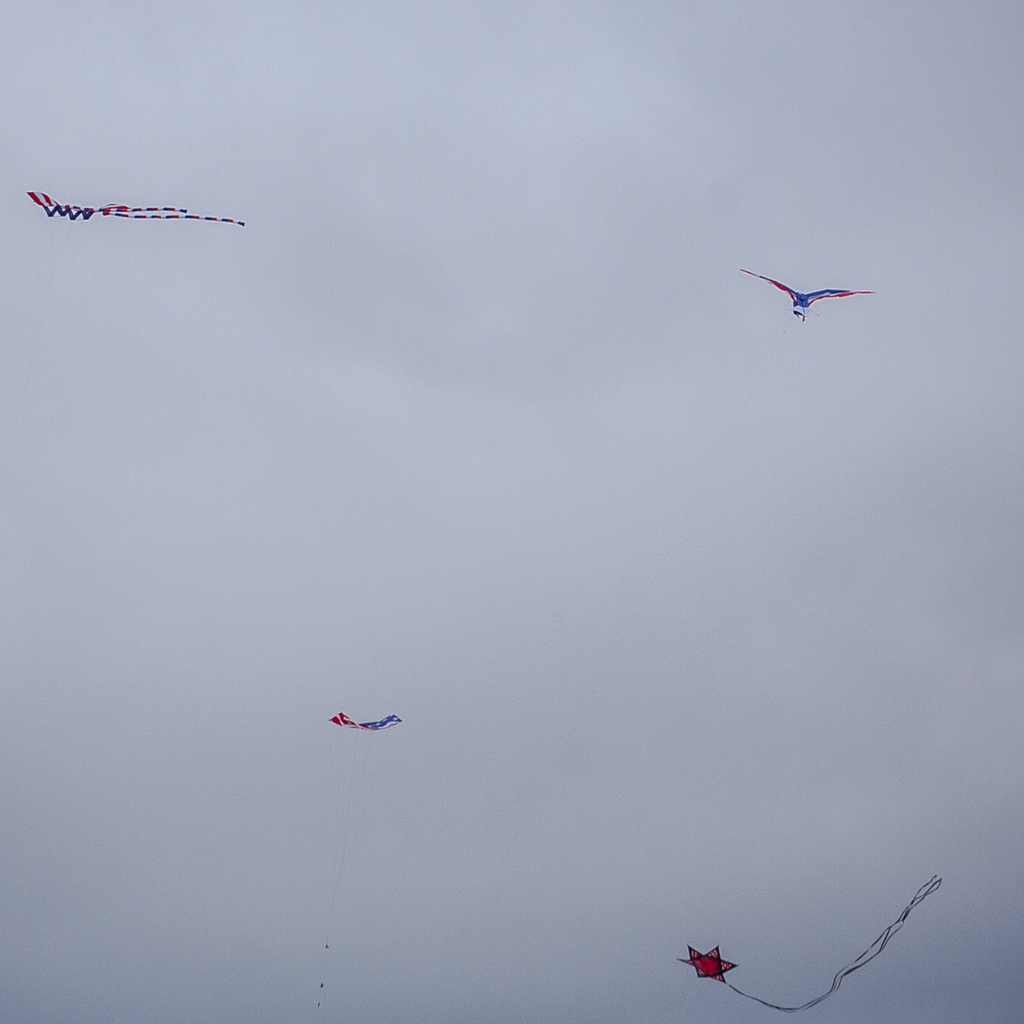kite: (657, 872, 942, 1018), (22, 180, 248, 240), (713, 255, 886, 332), (313, 703, 420, 740)
